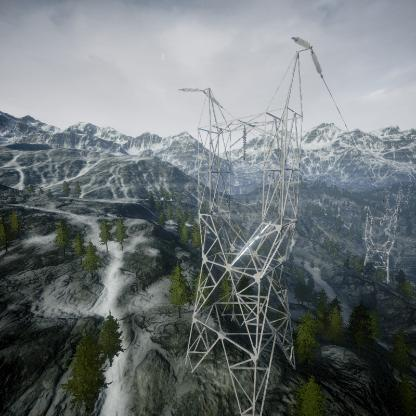tower: (176, 38, 313, 414), (356, 202, 403, 282)
